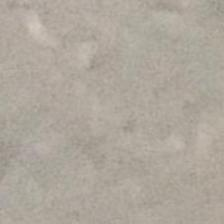Non_Crack: (28, 25, 168, 224)
